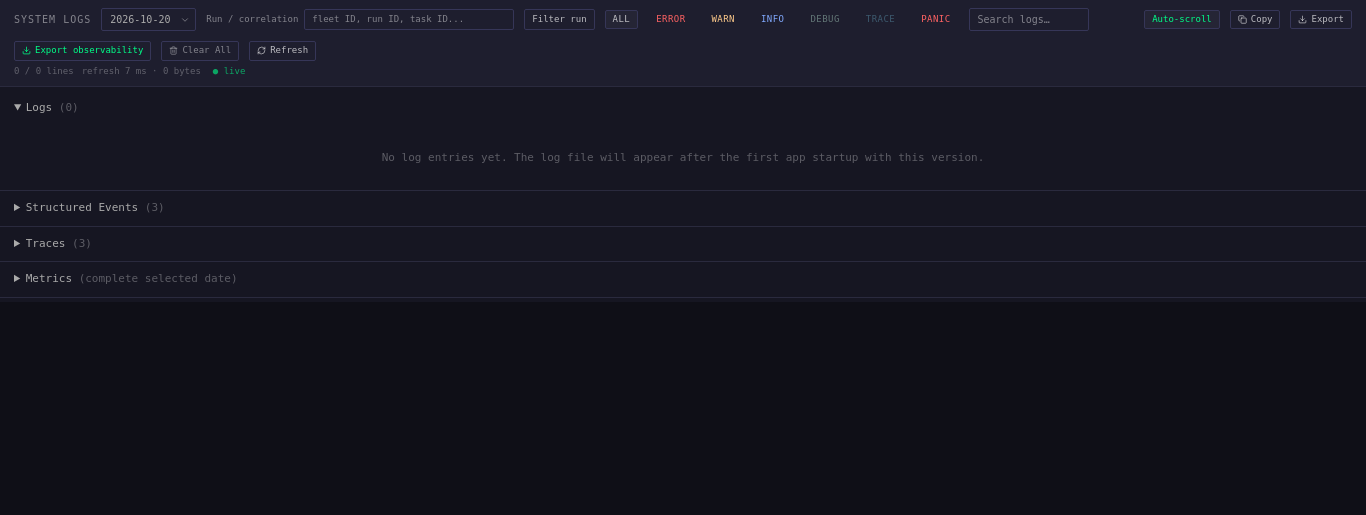
Test: Logs tab › aggregates sub-operation count, wall-clock window, and slowest duration per trace node
The width and height of the screenshot is (1366, 515).
Step 1. Click the heading "Traces (3)" → (59, 243), box [26, 236, 92, 250]
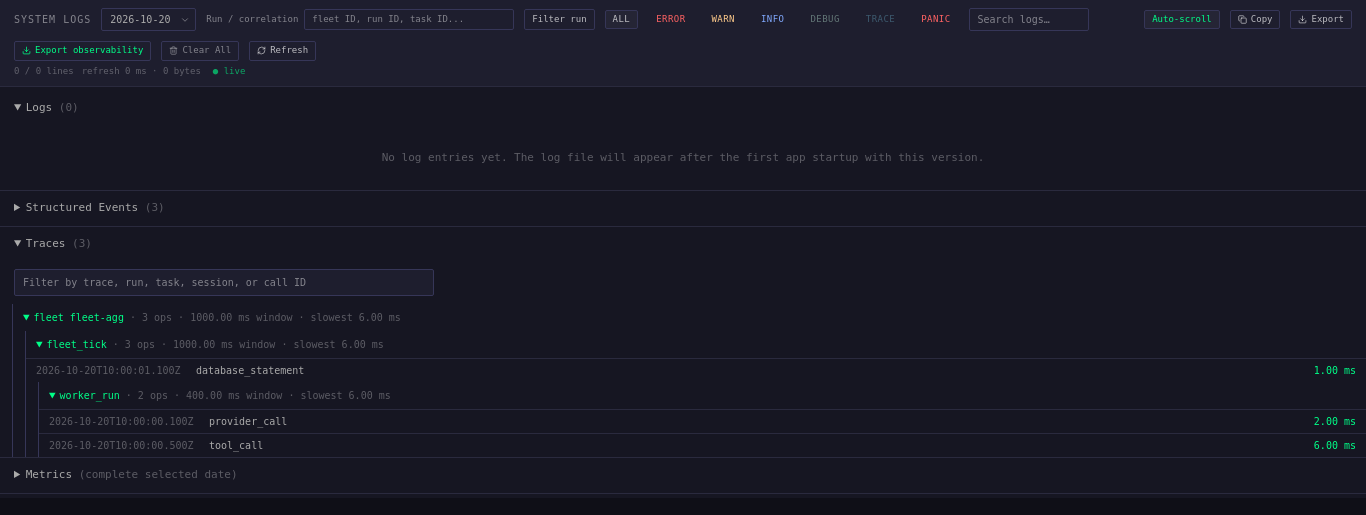
Check: the text "fleet fleet-agg" shows "3 ops", box [124, 312, 401, 323]
Check: the text "fleet fleet-agg" shows "1000.00 ms window", box [124, 312, 401, 323]
Check: the text "fleet fleet-agg" shows "slowest 6.00 ms", box [124, 312, 401, 323]
